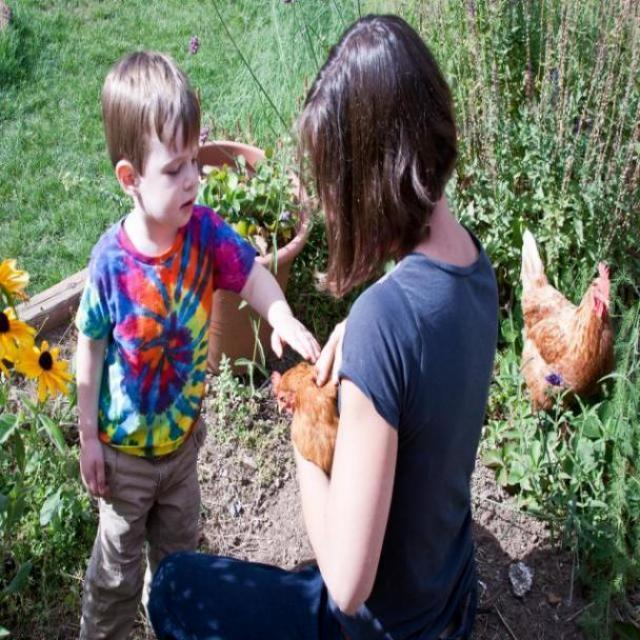Chicken: (527, 228, 608, 428), (263, 353, 338, 476)
